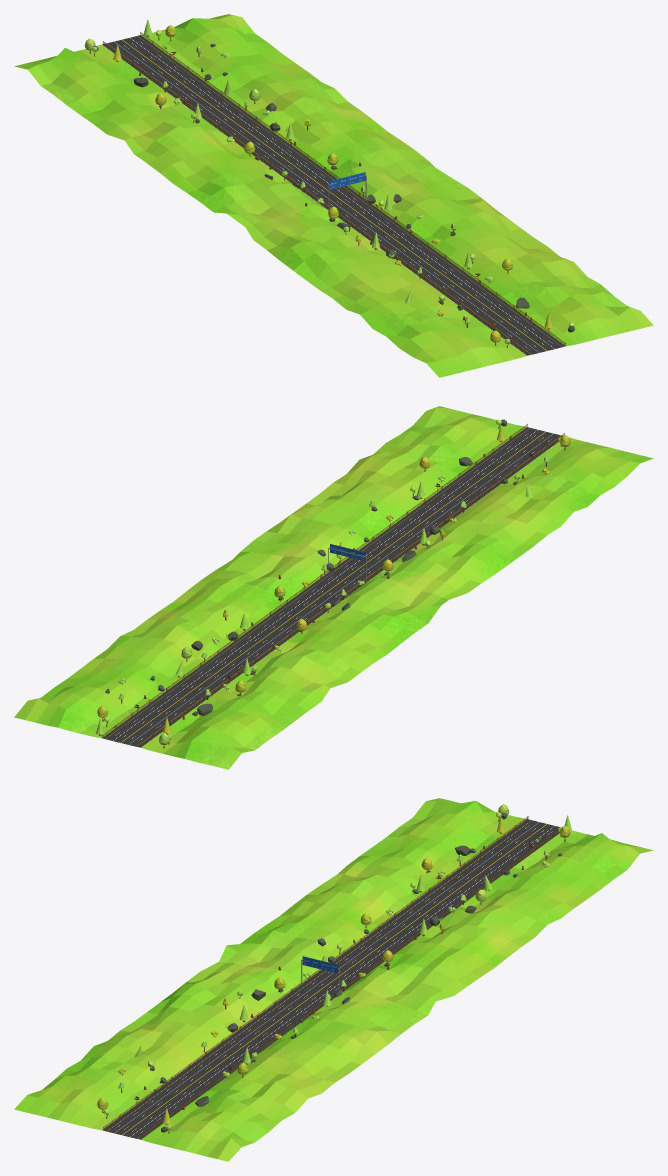
Rendered from Green with singbord.fbx.
3 views of the same model, one above another, from view 1: azimuth 30°, elevation 25°; view 2: azimuth 150°, elevation 25°; view 3: azimuth 330°, elevation 25° (orthographic).
Visible parts, largest first — view 1: Props, Road; view 2: Props, Road; view 3: Props, Road.
Part boxes in pixels (bbox=[...]): Props: bbox=[14, 14, 653, 377]; Road: bbox=[102, 35, 565, 355]; Props: bbox=[14, 406, 653, 769]; Road: bbox=[102, 427, 562, 747]; Props: bbox=[14, 798, 653, 1161]; Road: bbox=[102, 819, 559, 1139].
Size of the model in its own units: 5823 by 848 by 20002.
Materials: 21 (21 with a texture image).
